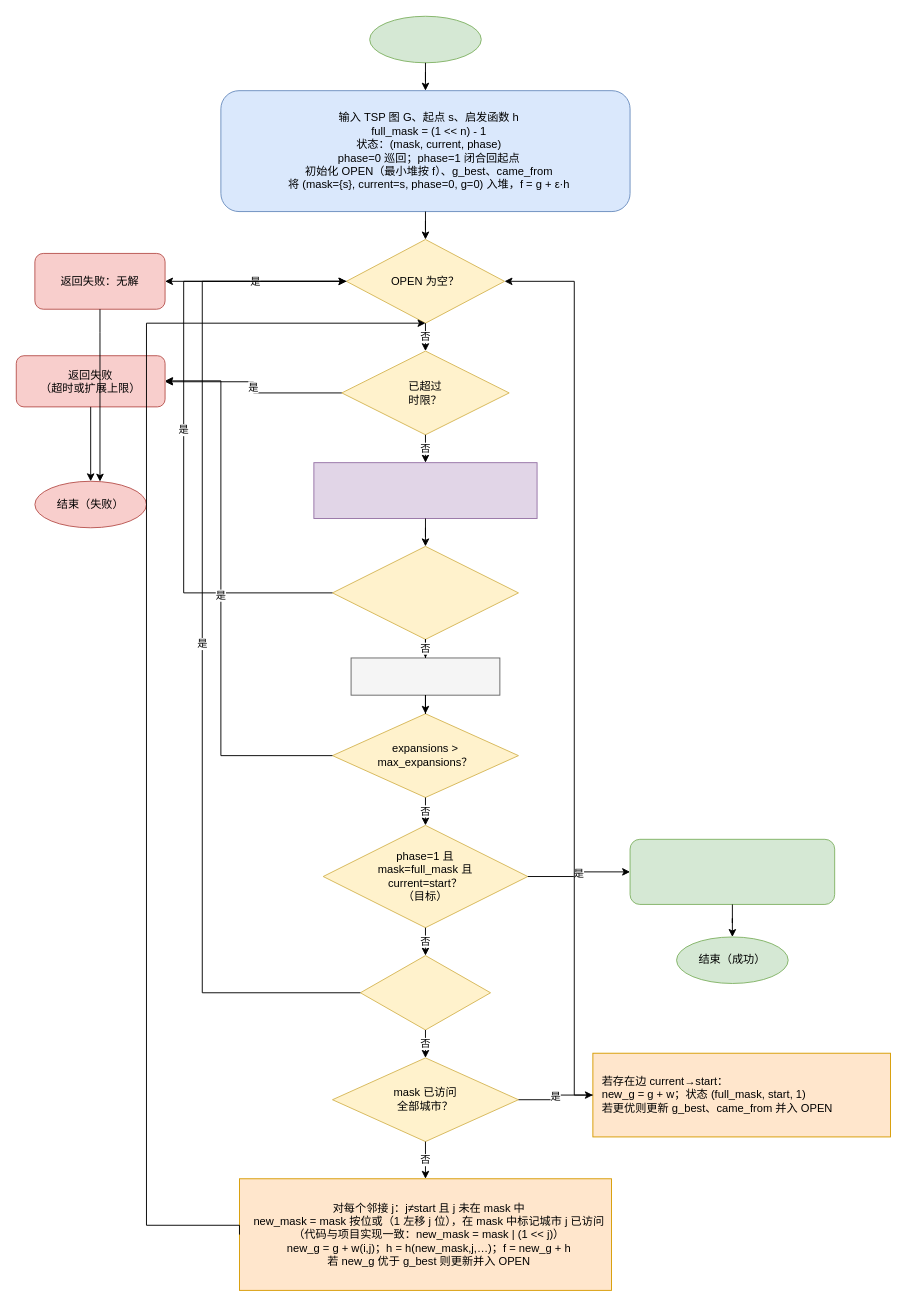
This 907x1307 diagram has some shape labels left out. Here are the shapes that lost their labels. From the top down, the centre of each, then its label:
pixel 425 39: 开始
pixel 425 490: 弹出 f 最小的状态 (mask, current, phase, g)
pixel 425 592: g 劣于 g_best[state]？ （陈旧节点）
pixel 425 676: expansions 自增 1
pixel 732 871: 沿 came_from 回溯得回路 做合法性校验并返回闭合路径与代价 g （最优性由后续验证器认证）
pixel 425 992: phase=1？
